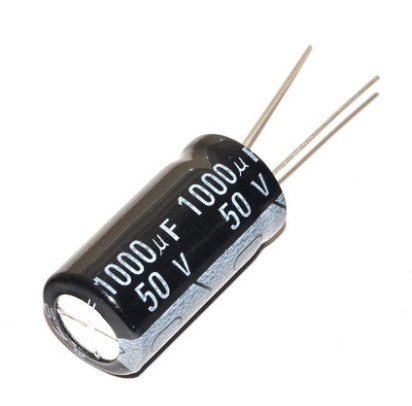capacitor: (25, 81, 318, 373)
